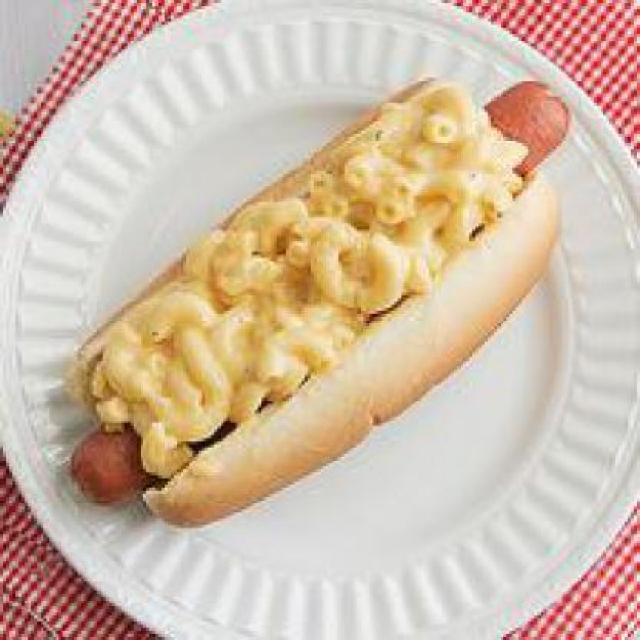hot dog: (484, 72, 582, 180), (65, 422, 146, 504)
macaroni and cheese: (127, 83, 491, 475)
